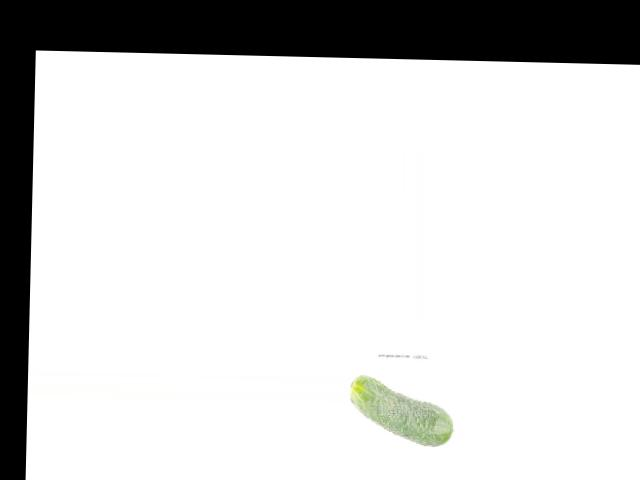cucumber: (349, 374, 455, 447)
